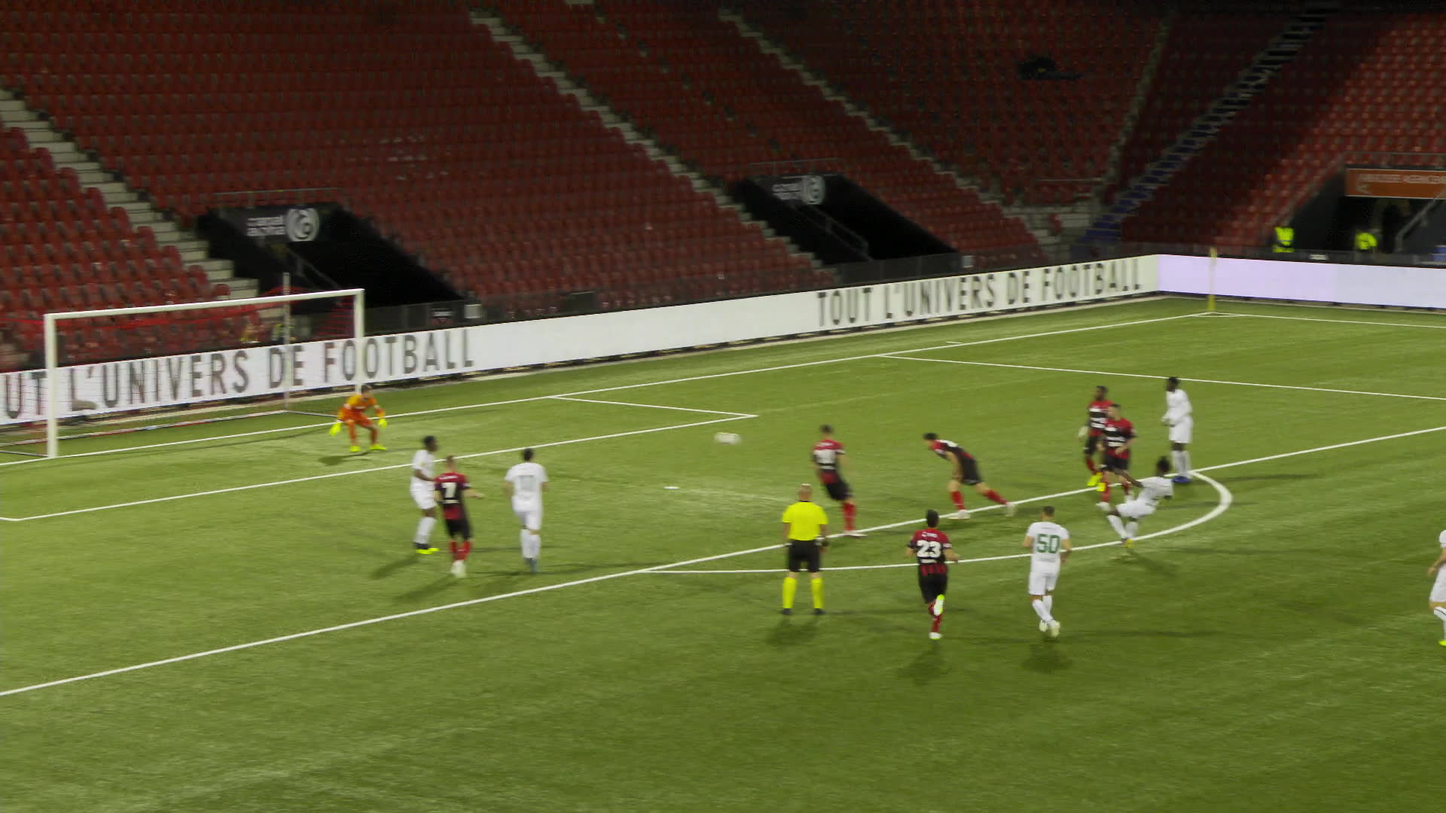ball: (751, 436, 776, 449)
player: (1023, 510, 1084, 638), (925, 428, 1005, 519), (911, 507, 960, 647), (432, 458, 486, 578), (1117, 457, 1178, 554), (807, 422, 859, 534), (505, 452, 551, 572), (405, 437, 445, 555), (345, 386, 407, 456), (1101, 404, 1139, 512), (1103, 385, 1139, 492), (1163, 377, 1195, 483), (1425, 511, 1445, 644)
referee: (778, 483, 828, 616)
